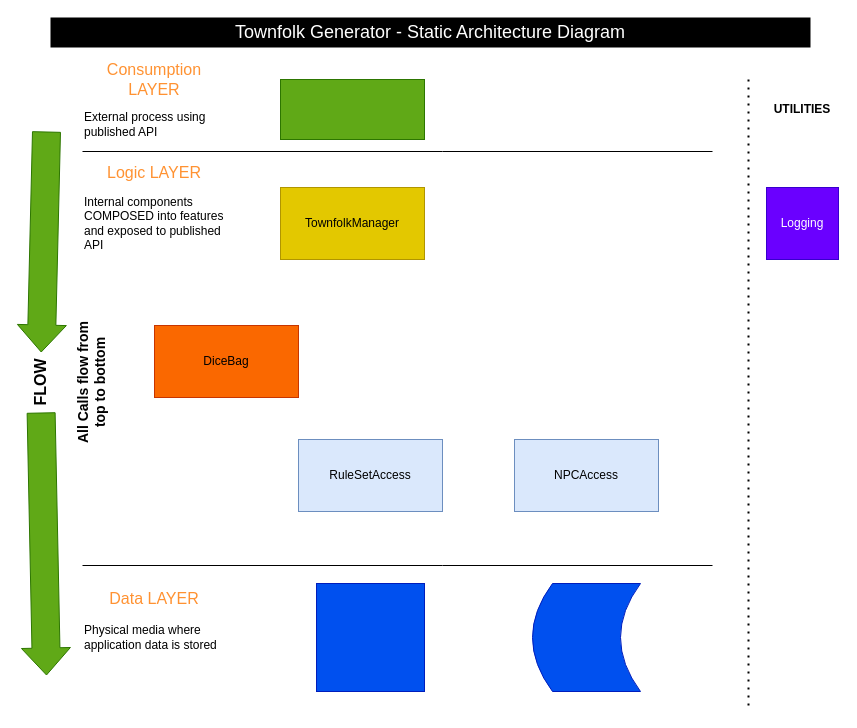
Image size: 857x728. Some labels were removed from this diagram. Here are the shapes that lost their labels. From the top down, the centre of each, then its label:
At (x=352, y=109): "Clients".
At (x=370, y=637): "RuleSet Data hard-coded as a class for now".
At (x=586, y=637): "AppData NPCs Stored as Files".
